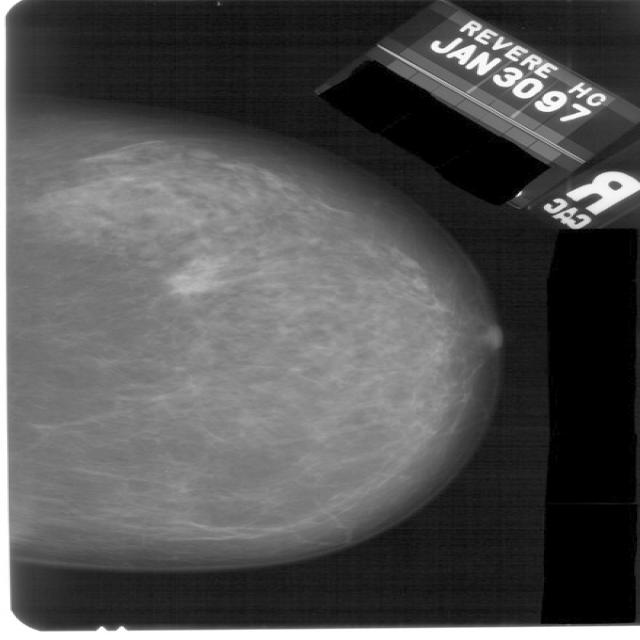tumour: (168, 257, 225, 294)
